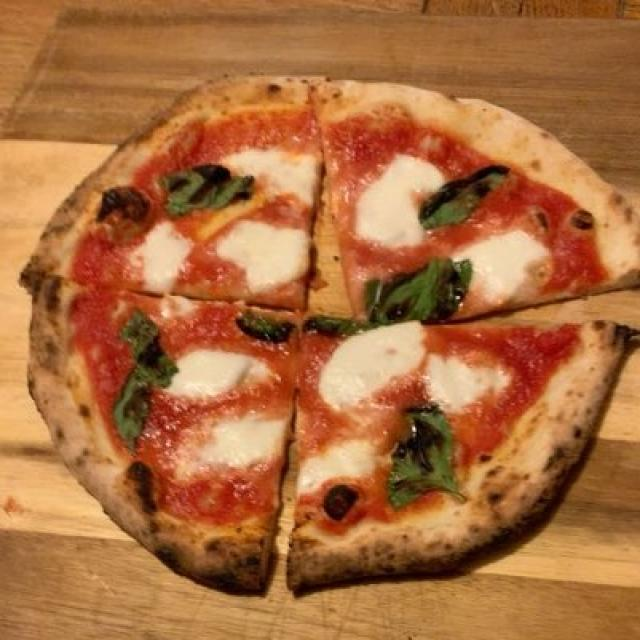pizza-margherita-baked: (41, 79, 622, 577)
